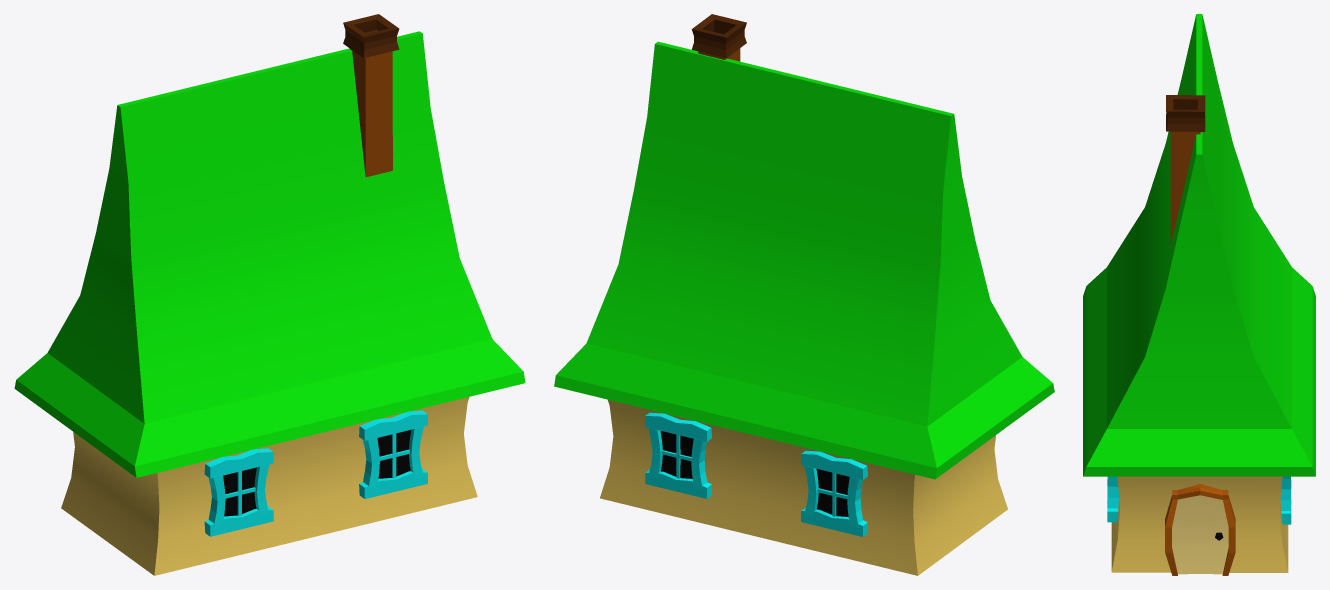
The model's file is House2.fbx.
The picture shows the model from 3 angles, left to right: view 1: azimuth 30°, elevation 25°; view 2: azimuth 150°, elevation 25°; view 3: azimuth 270°, elevation 25°; orthographic projection. The views are drawn at different scales.
Parts seen in each view (by area): view 1: Roof, Base, pCube14, pCube3, pCube11, pCube4, pCube8, pCube5, pCube12; view 2: Roof, Base, pCube3 (×2), pCube4 (×2), pCube14, pCube5 (×2); view 3: Roof, Base, Door, pCube14, pCube11, pCube3.
Part boxes in pixels (box(x1,y1,x2,y2)): Roof: box(14, 31, 525, 477); Base: box(61, 397, 477, 575); pCube14: box(343, 14, 399, 177); pCube3: box(208, 464, 269, 527); pCube11: box(363, 426, 423, 489); pCube4: box(204, 448, 273, 478); pCube8: box(359, 410, 427, 440); pCube5: box(204, 506, 273, 536); pCube12: box(359, 468, 427, 498); Roof: box(554, 41, 1054, 479); Base: box(600, 399, 1007, 575); pCube3 (×2): box(648, 427, 862, 527); pCube4 (×2): box(645, 412, 867, 479); pCube14: box(691, 14, 746, 61); pCube5 (×2): box(645, 469, 867, 536); Roof: box(1083, 14, 1315, 476); Base: box(1111, 476, 1288, 572); Door: box(1165, 484, 1235, 575); pCube14: box(1166, 95, 1205, 244); pCube11: box(1107, 476, 1118, 508); pCube3: box(1280, 476, 1291, 510).
Size of the model in its own units: 36.11 by 40.77 by 19.63.
